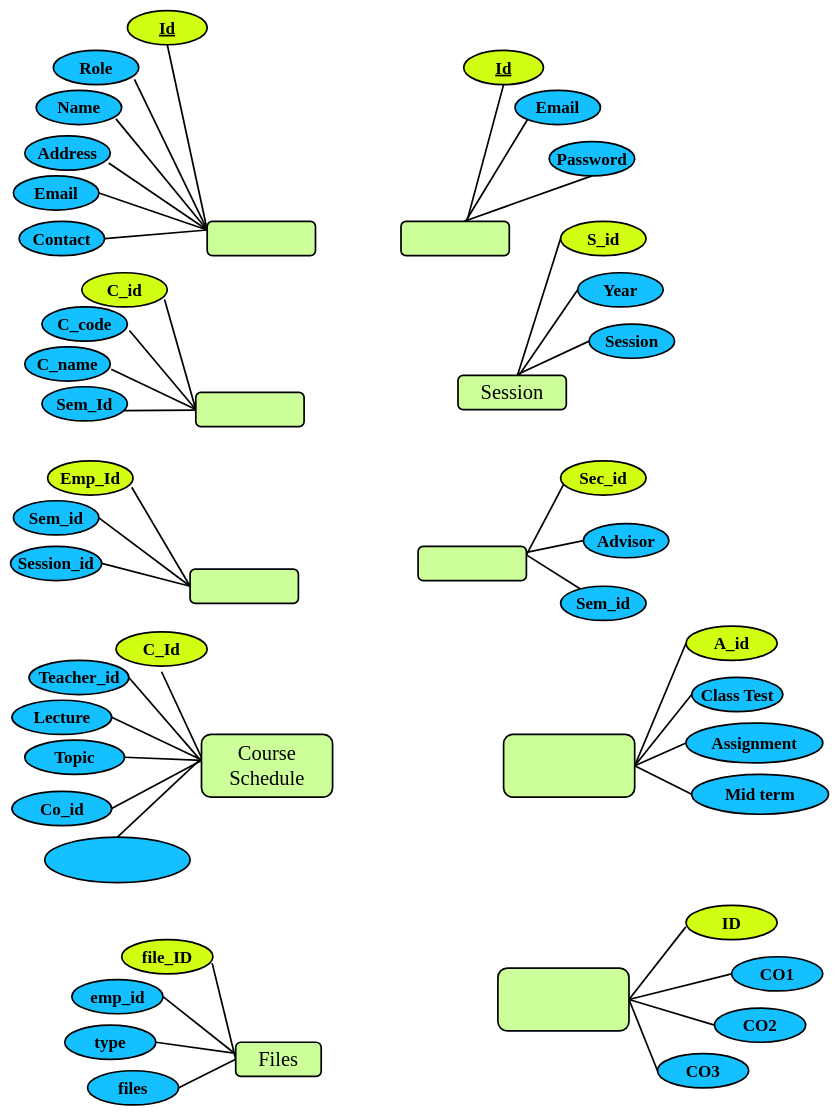
Some shapes in this 839 by 1115 pixel diagram are drawn without their labels. The shapes that lost their labels are listed below. From the top down, each one's centre as x and y in pixels, then its label:
(261,238): Employees
(455,238): Login
(250,409): Course
(472,563): Section
(244,586): Semester
(568,765): Assesment Streatagy
(117,859): Assesment result
(563,999): Course Outcome
